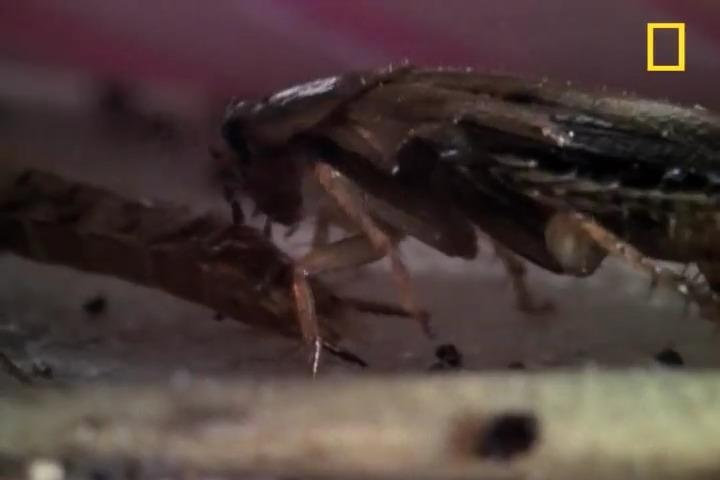cockroach: (132, 73, 720, 397)
